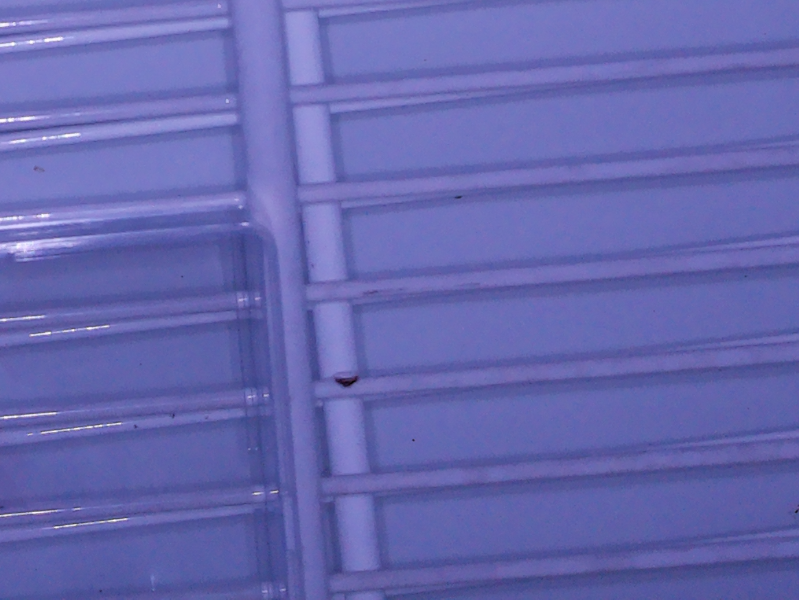plate: (1, 211, 309, 600)
